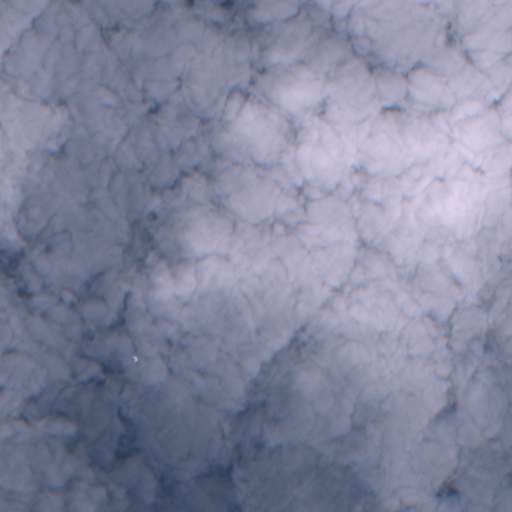Iceberg: (133, 356, 137, 361)
